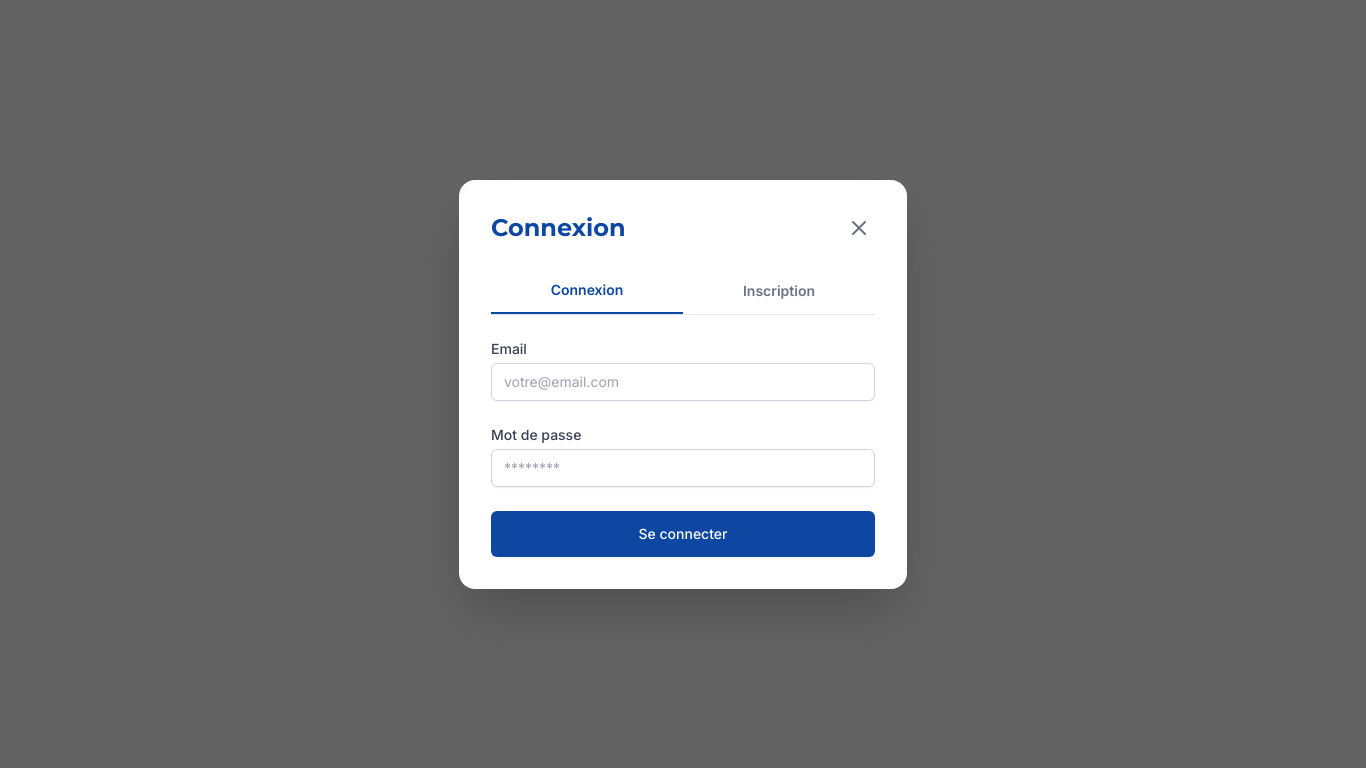
Test: AuthModal › doit passer au formulaire d'inscription lorsque l'onglet d'inscription est cliqué
The image size is (1366, 768).
Click the button "Inscription": (779, 290) [683, 268, 875, 314]
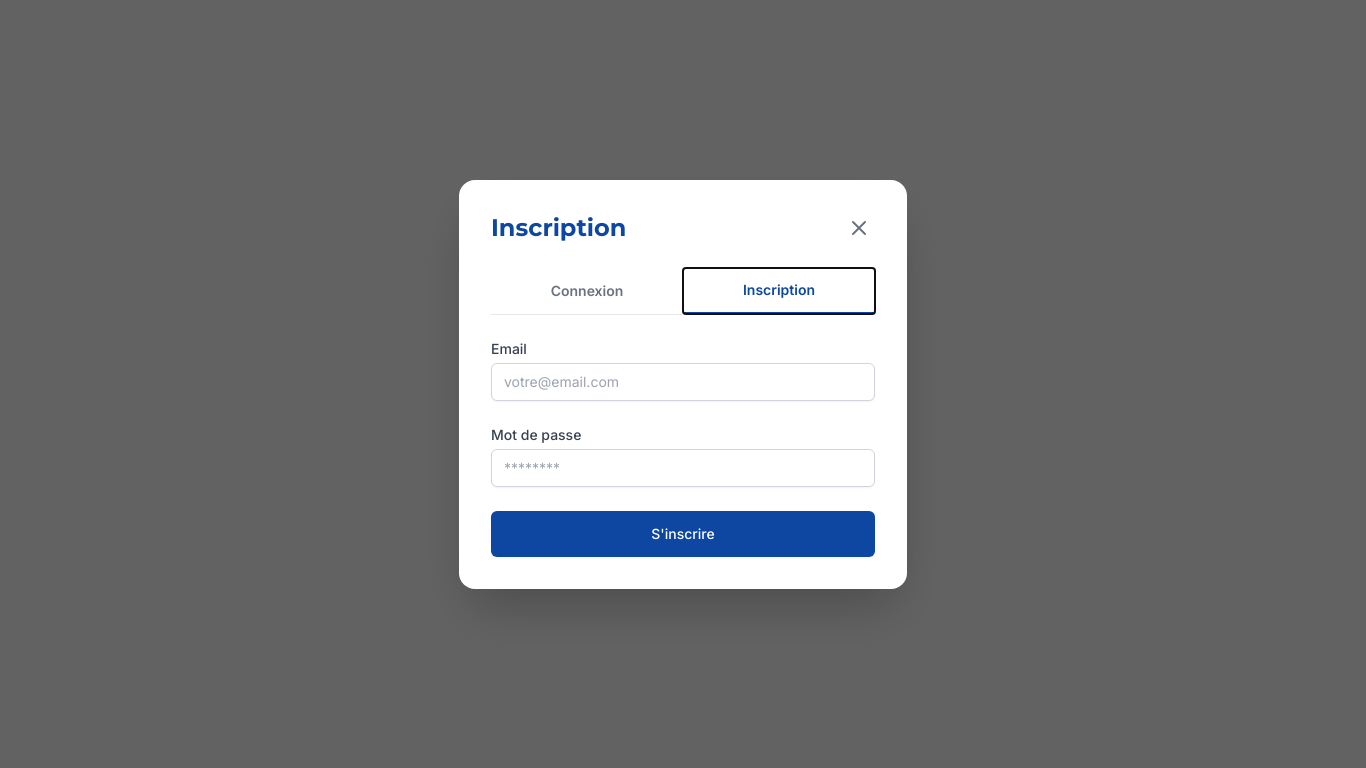
Check: the heading "Inscription" is shown, box [491, 212, 626, 244]
Check: the button "S'inscrire" is shown, box [491, 510, 875, 556]
